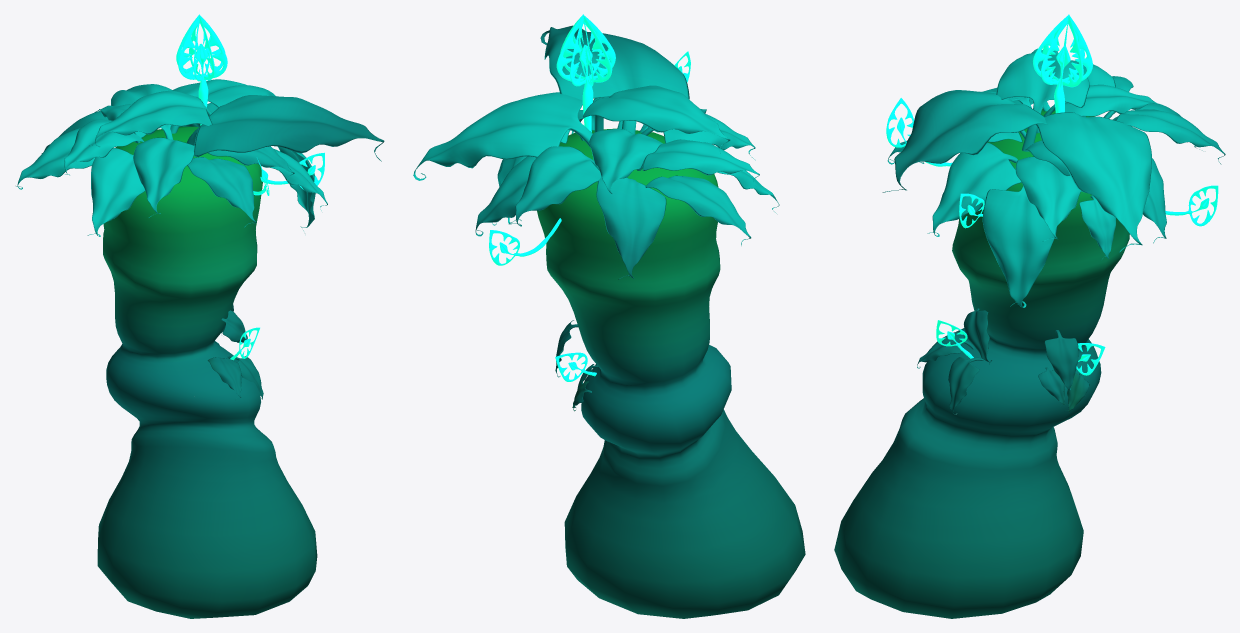
Rendered from Plante base A F.fbx.
3 renders of one model, left to right at view 1: azimuth 30°, elevation 25°; view 2: azimuth 150°, elevation 25°; view 3: azimuth 270°, elevation 25°, orthographic. The views are drawn at different scales.
Visible parts, largest first — view 1: Feuille basD; view 2: Feuille basD; view 3: Feuille basD.
Part boxes in pixels (box(x1,y1,x2,y2)): Feuille basD: box(16, 14, 384, 618); Feuille basD: box(413, 14, 805, 618); Feuille basD: box(834, 14, 1225, 618).
Bounding box in the file's own units: 119 × 214 × 126.
Materials: 5 (4 with a texture image).
